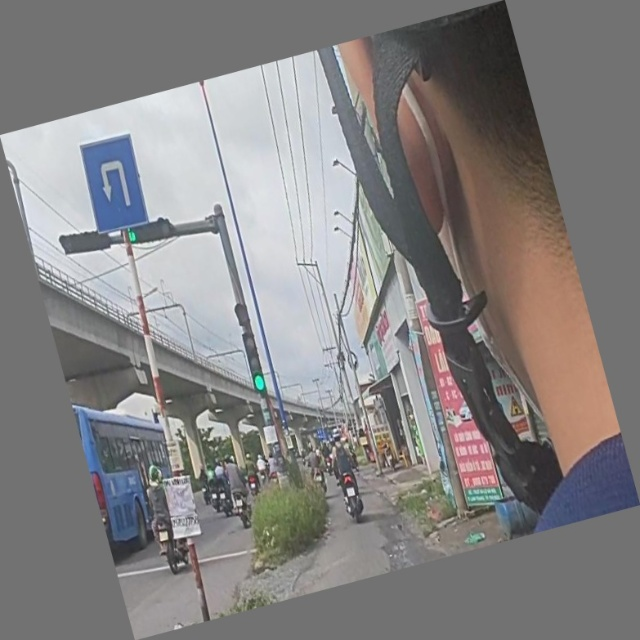I.409: (68, 119, 161, 250)
